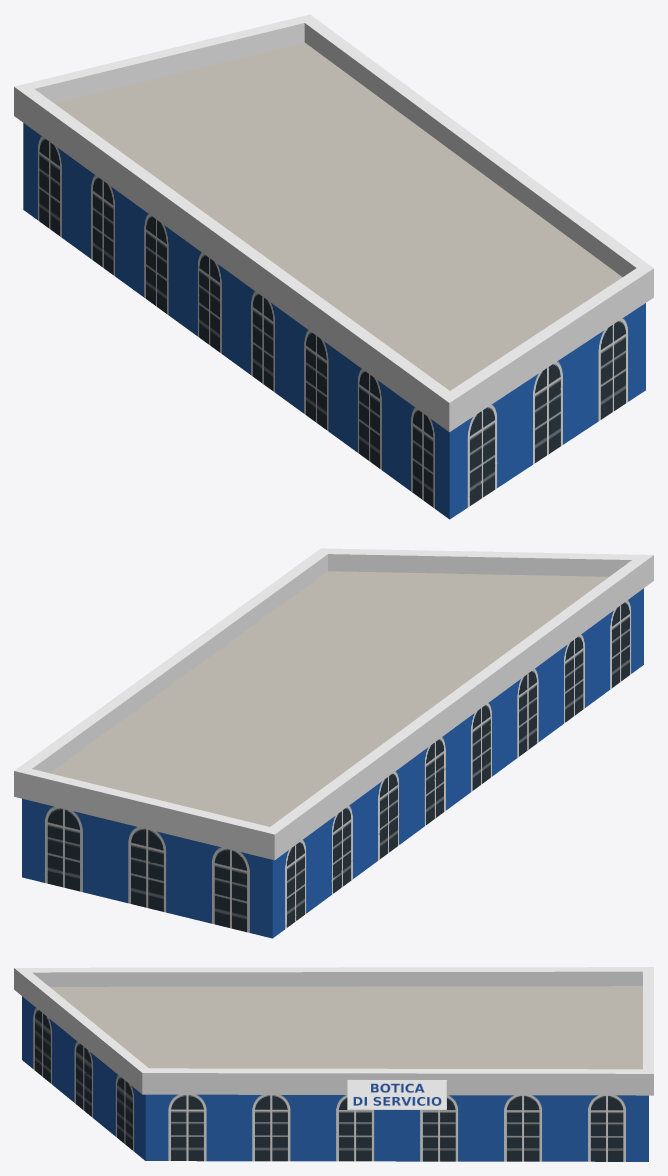
The model's file is sc_botica.glb.
The picture shows the model from 3 angles, top to bottom: view 1: azimuth 30°, elevation 25°; view 2: azimuth 150°, elevation 25°; view 3: azimuth 270°, elevation 25°; orthographic projection. The views are drawn at different scales.
Parts seen in each view (by area): view 1: sc_botica_lod0; view 2: sc_botica_lod0; view 3: sc_botica_lod0.
Part boxes in pixels (left/top/right/bottom): sc_botica_lod0: left=14, top=14, right=653, bottom=519; sc_botica_lod0: left=14, top=548, right=653, bottom=938; sc_botica_lod0: left=14, top=967, right=653, bottom=1161.
Size of what is drawn, in the model's own units: 12.85 by 5 by 32.16.
Materials: 4 (2 with a texture image).
